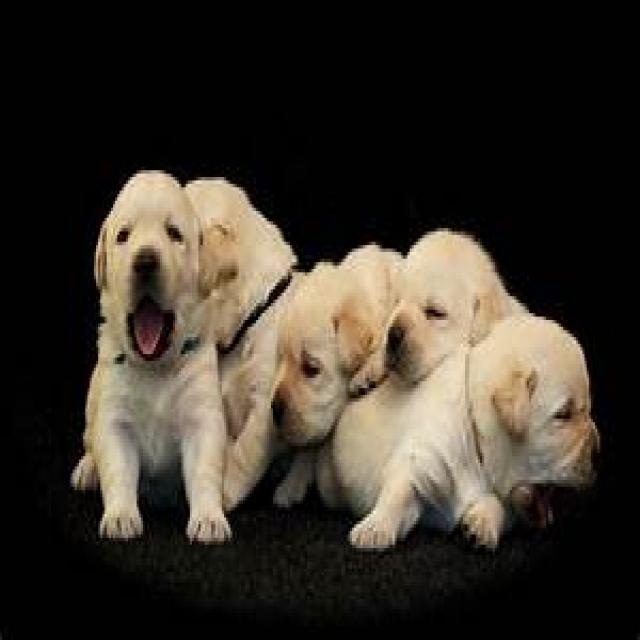dog: (314, 313, 602, 551), (70, 170, 230, 545), (273, 249, 401, 446)
